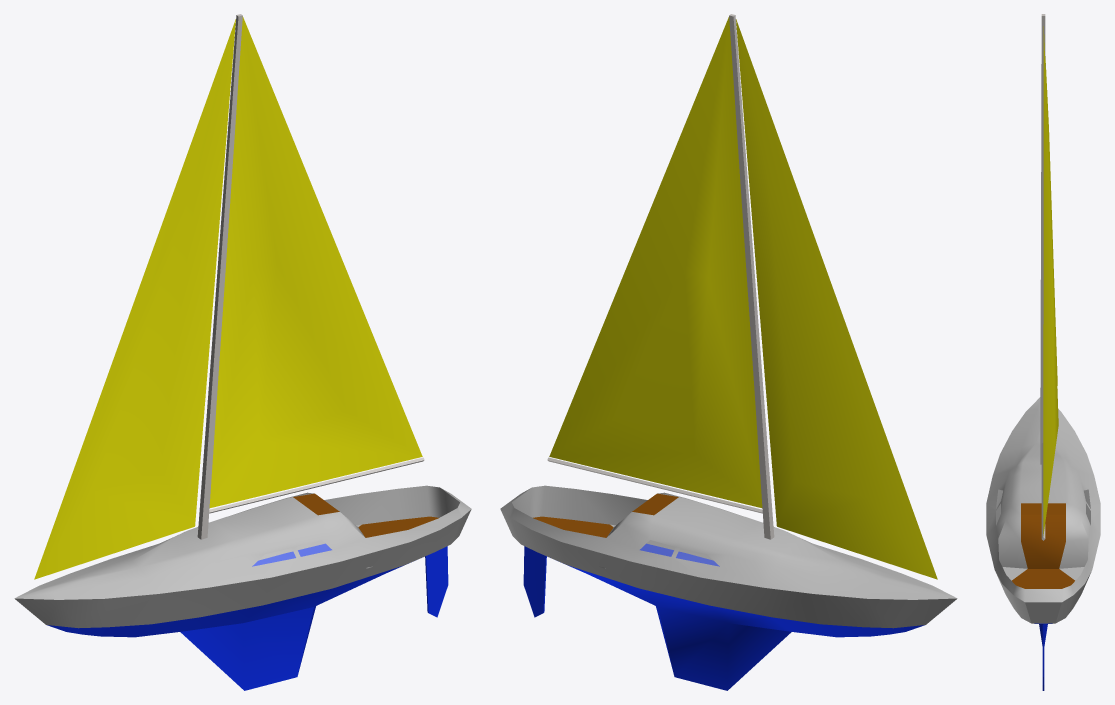
The model's file is sailing_boat.glb.
The picture shows the model from 3 angles, left to right: view 1: azimuth 30°, elevation 25°; view 2: azimuth 150°, elevation 25°; view 3: azimuth 270°, elevation 25°; orthographic projection. The views are drawn at different scales.
Parts seen in each view (by area): view 1: WHITE MATTE, 0_Hard Shiny Plastic Grey_0, MATTE, STEEL, WOOD INLAY - A, OPAQUE GLASS; view 2: WHITE MATTE, 0_Hard Shiny Plastic Grey_0, MATTE, STEEL, WOOD INLAY - A, OPAQUE GLASS; view 3: 0_Hard Shiny Plastic Grey_0, WHITE MATTE, WOOD INLAY - A, STEEL, MATTE, OPAQUE GLASS.
Part boxes in pixels (x1,y1,x2,y2): WHITE MATTE: (34, 16, 422, 579); 0_Hard Shiny Plastic Grey_0: (14, 485, 471, 628); MATTE: (47, 543, 448, 690); STEEL: (197, 14, 424, 539); WOOD INLAY - A: (293, 493, 438, 537); OPAQUE GLASS: (252, 540, 331, 566); WHITE MATTE: (549, 16, 937, 579); 0_Hard Shiny Plastic Grey_0: (500, 485, 957, 628); MATTE: (523, 543, 924, 690); STEEL: (547, 14, 774, 539); WOOD INLAY - A: (533, 493, 678, 537); OPAQUE GLASS: (640, 540, 719, 566); 0_Hard Shiny Plastic Grey_0: (986, 397, 1100, 623); WHITE MATTE: (1043, 26, 1058, 535); WOOD INLAY - A: (1012, 503, 1074, 588); STEEL: (1040, 14, 1045, 540); MATTE: (1034, 623, 1052, 690); OPAQUE GLASS: (996, 490, 1090, 524).
Size of the model in its own units: 318 by 460 by 77.78.
